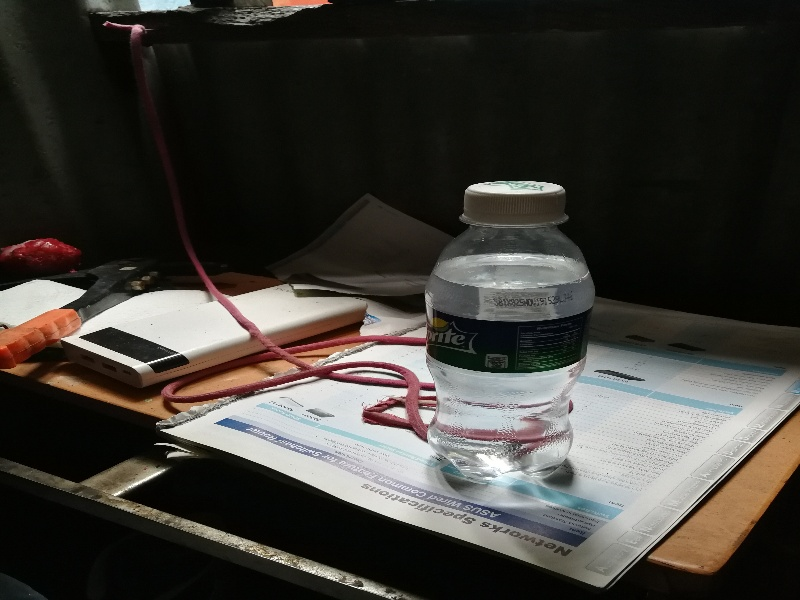PET #1: (419, 159, 598, 492)
